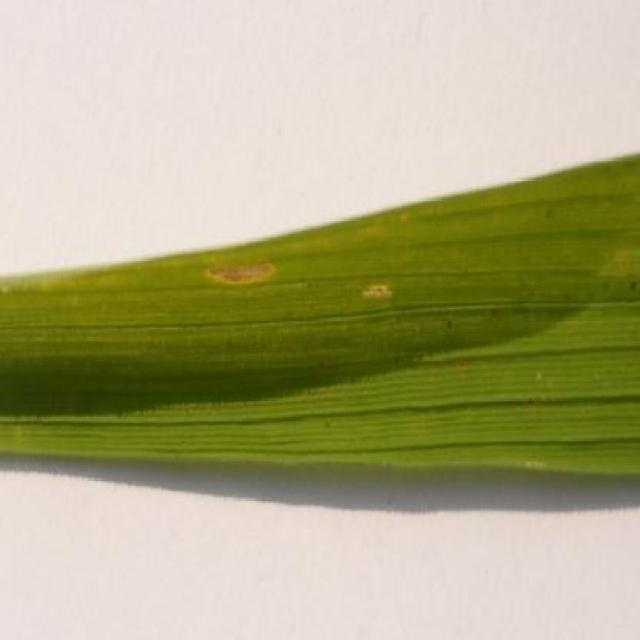Brown_Spot: (178, 219, 285, 350), (349, 223, 446, 342), (595, 173, 640, 359), (353, 225, 398, 350)
